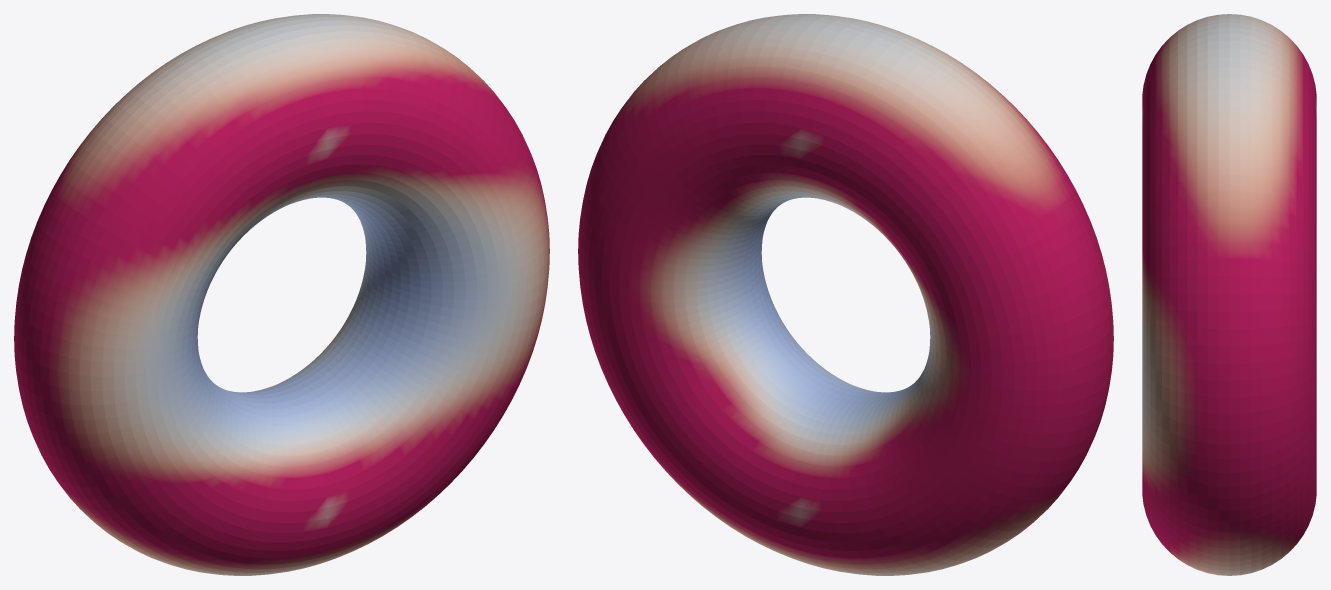
The picture shows the model from 3 angles, left to right: view 1: azimuth 30°, elevation 25°; view 2: azimuth 150°, elevation 25°; view 3: azimuth 270°, elevation 25°; orthographic projection. The views are drawn at different scales.
Parts seen in each view (by area): view 1: world; view 2: world; view 3: world.
Boxes of the visible parts, left/top/right/bottom form: world: left=14, top=14, right=549, bottom=575; world: left=578, top=14, right=1113, bottom=575; world: left=1142, top=14, right=1316, bottom=575.
Bounding box in the file's own units: 26.13 × 26.13 × 8.12.
